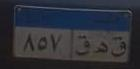5: (37, 35, 48, 52)
7: (49, 32, 63, 54)
8: (22, 29, 35, 55)
haa: (92, 40, 109, 56)
qaaf: (73, 33, 91, 58), (110, 34, 127, 59)
